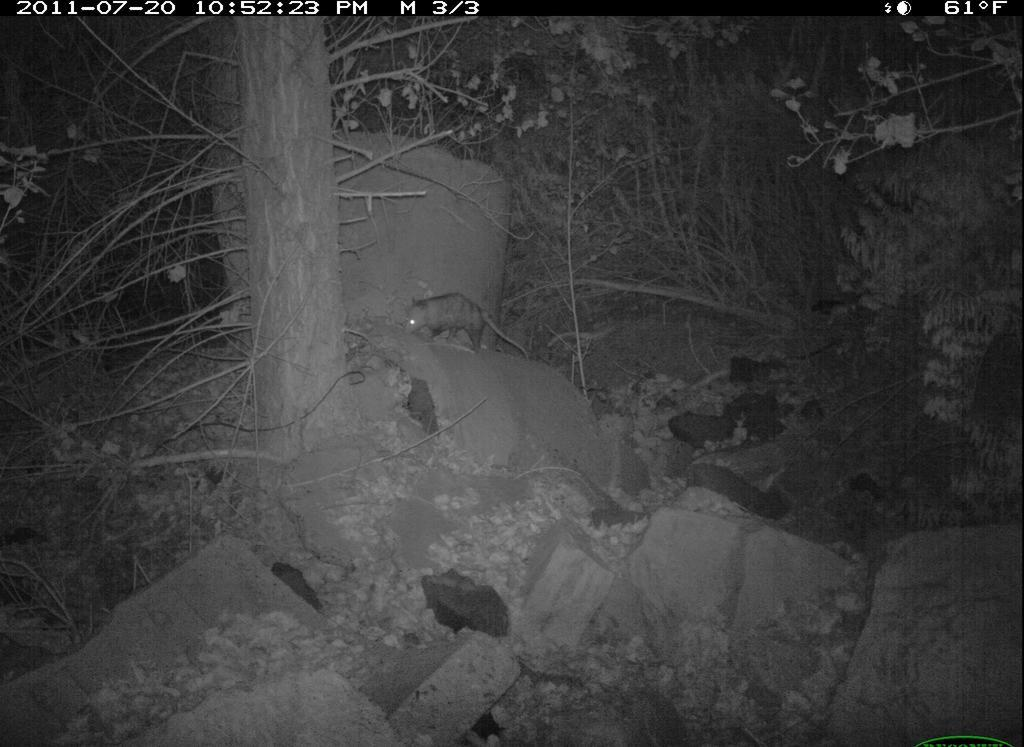opossum: (399, 290, 537, 361)
